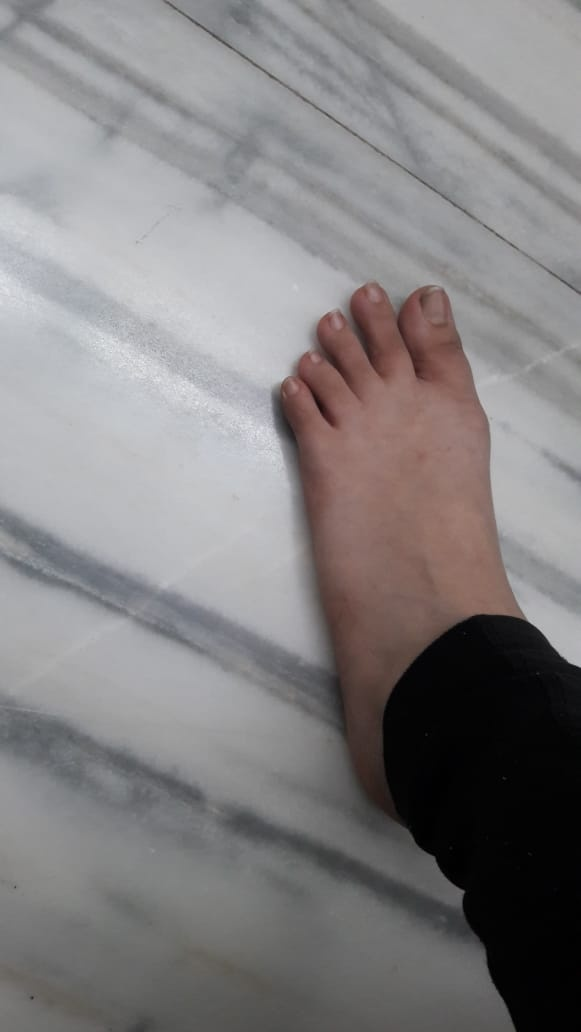feet: (211, 257, 544, 788)
